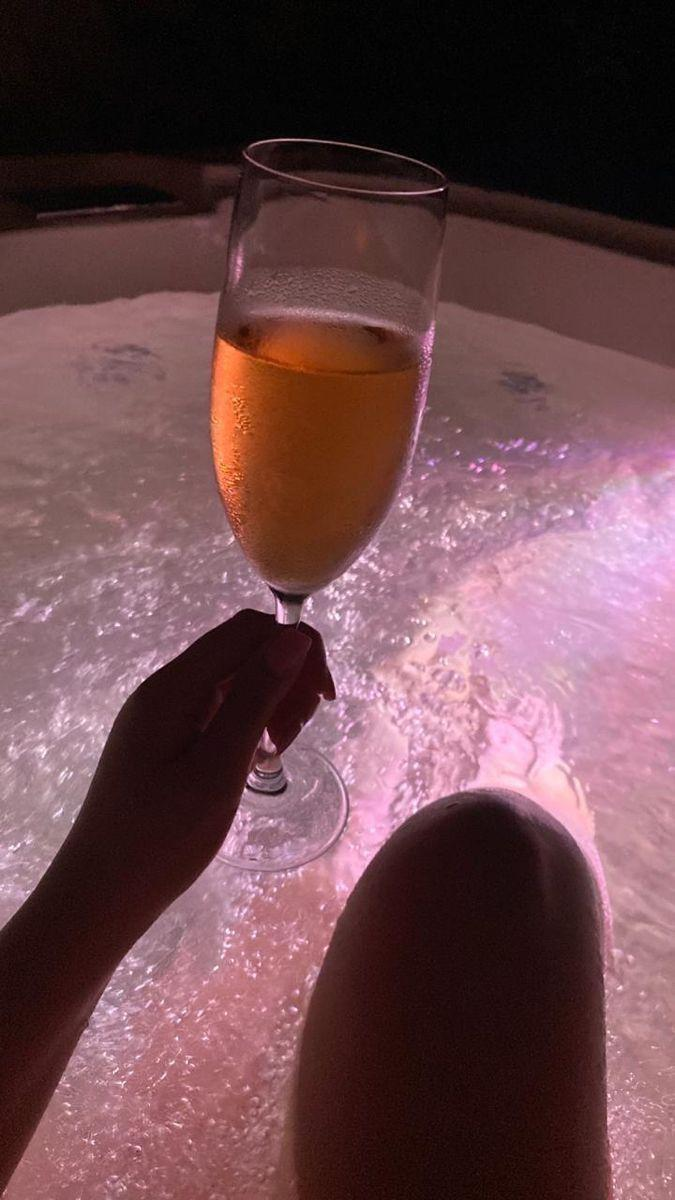glass-wine: (191, 135, 450, 875)
